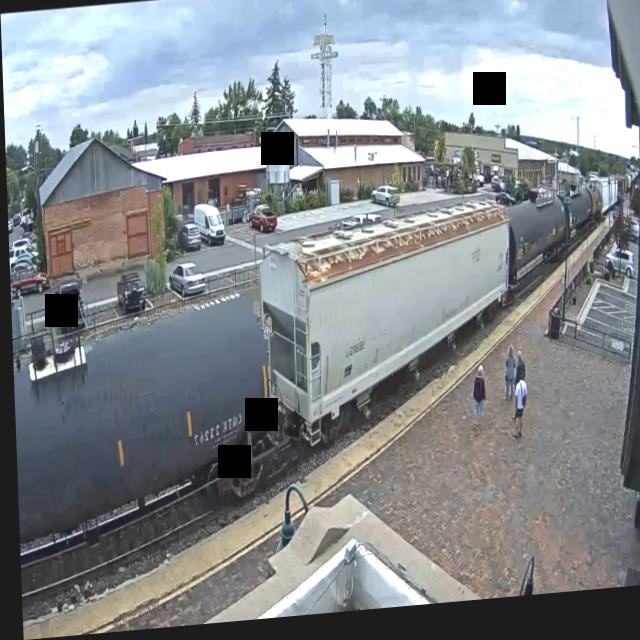hopper: (250, 198, 519, 471)
tank: (9, 279, 280, 566)
